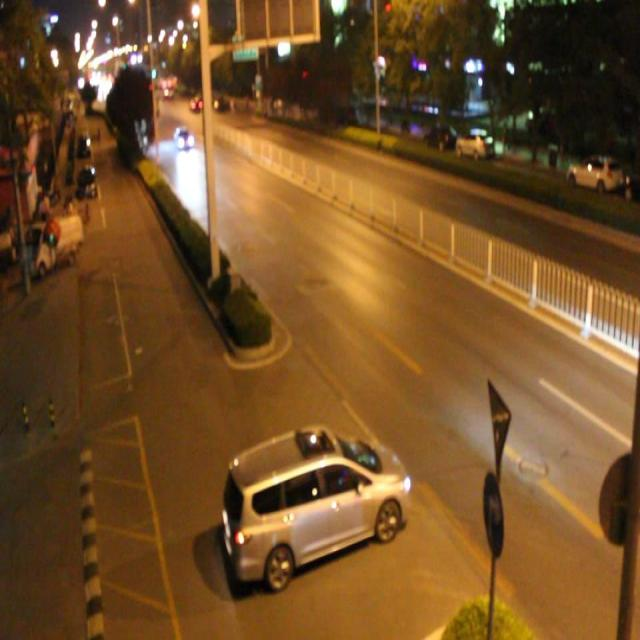car: (225, 424, 406, 579), (173, 126, 194, 148)
